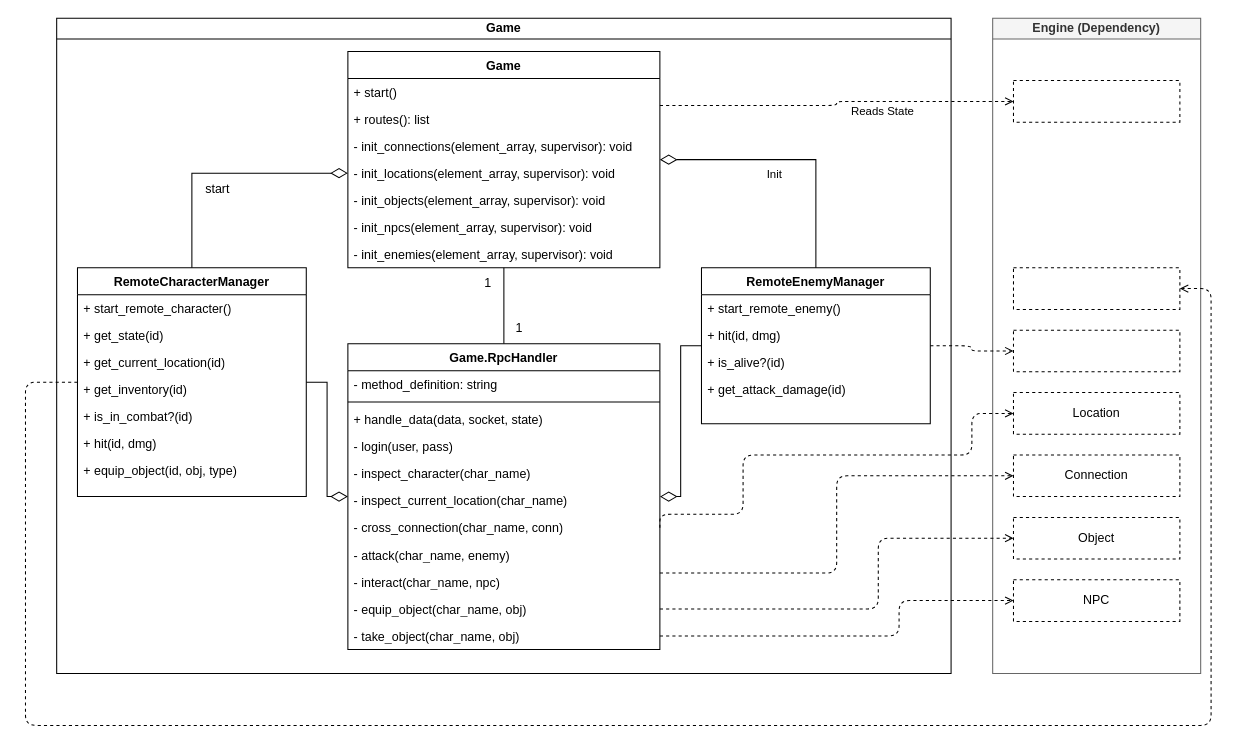
Image size: 1238x752. Some labels were removed from this diagram. The centre of each missing label's shape, as x and y in pixels:
"Character" belongs at (x=1096, y=288).
"Database Utils" belongs at (x=1096, y=101).
"Enemy" belongs at (x=1096, y=350).
